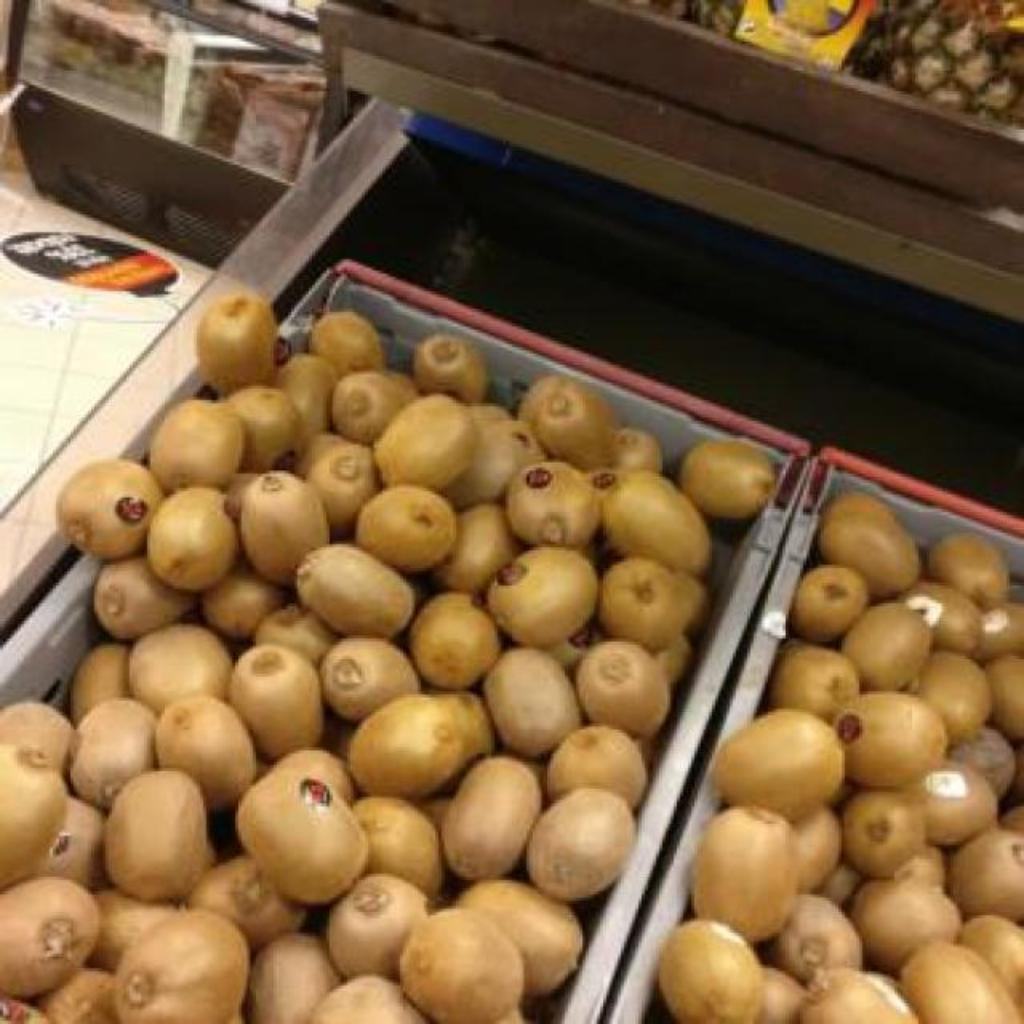kiwi: (240, 770, 368, 903), (348, 694, 492, 799), (714, 708, 844, 821), (104, 770, 214, 901), (692, 806, 798, 941), (121, 912, 248, 1024), (402, 910, 524, 1024), (456, 882, 578, 995), (440, 756, 542, 880), (526, 788, 634, 901), (0, 878, 100, 997), (486, 546, 598, 647), (602, 472, 710, 575), (158, 698, 256, 810), (296, 544, 414, 637), (658, 920, 764, 1023), (482, 648, 582, 757), (834, 692, 946, 789), (228, 644, 322, 759), (188, 856, 306, 947), (444, 404, 546, 507), (58, 460, 164, 559), (850, 880, 962, 973), (820, 494, 918, 599), (374, 394, 478, 491), (240, 472, 330, 583), (330, 874, 426, 978), (902, 942, 1022, 1024), (0, 744, 68, 887), (146, 486, 238, 591), (72, 698, 156, 807), (352, 798, 444, 897), (576, 642, 670, 737), (356, 486, 458, 573), (150, 400, 246, 491), (410, 592, 500, 689), (132, 624, 232, 711), (518, 378, 612, 469), (298, 432, 378, 537), (94, 556, 194, 639), (320, 638, 420, 721), (546, 726, 648, 807), (196, 288, 276, 391), (432, 502, 520, 593), (600, 558, 688, 649), (770, 894, 862, 981), (506, 462, 600, 547), (842, 602, 932, 690), (250, 934, 338, 1023), (842, 790, 926, 878), (680, 440, 774, 518), (770, 640, 860, 721), (224, 386, 306, 471), (948, 828, 1024, 919), (88, 890, 173, 969), (916, 652, 990, 741), (920, 762, 998, 845), (960, 914, 1024, 1015), (790, 564, 870, 643), (336, 370, 418, 443), (928, 534, 1010, 607), (902, 582, 982, 655), (202, 568, 284, 639), (310, 976, 428, 1023), (0, 702, 74, 773), (276, 354, 338, 437), (414, 334, 488, 401), (255, 606, 338, 663), (800, 984, 918, 1024), (948, 726, 1014, 797), (70, 644, 130, 721), (310, 312, 382, 375), (272, 750, 354, 801), (44, 968, 118, 1024), (794, 806, 842, 891), (986, 656, 1024, 741), (756, 966, 806, 1023), (976, 604, 1024, 659), (614, 431, 660, 471)
